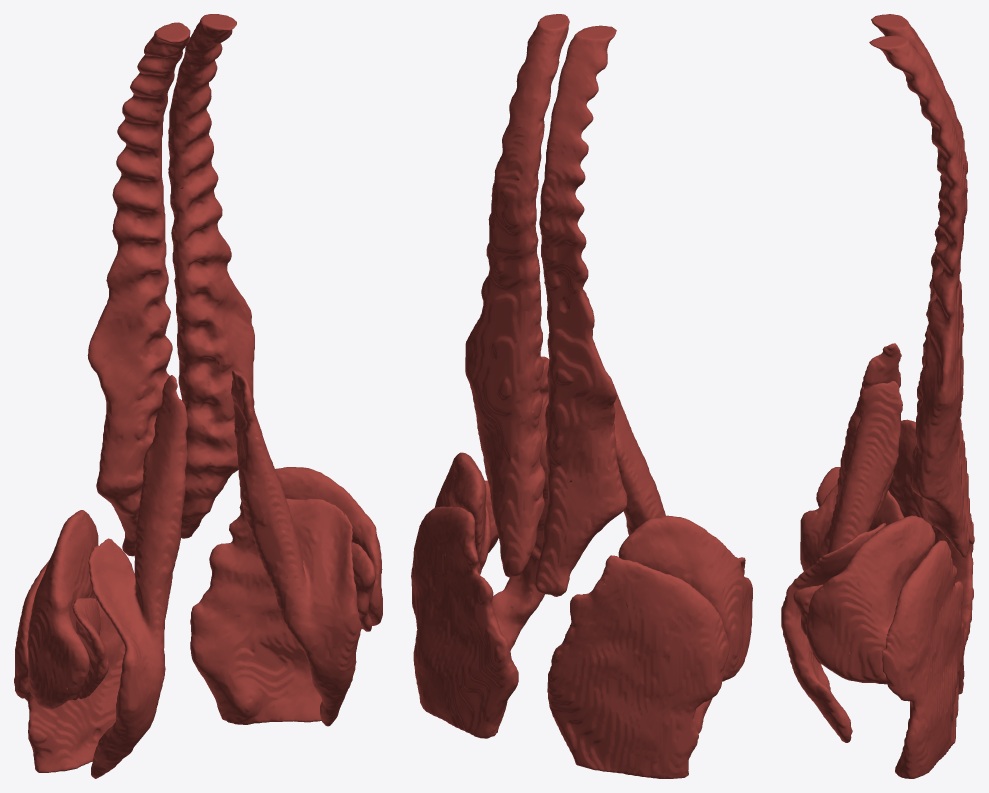
File: tsd_s0327_older_adult_male.muscular.LOD1.glb
The picture shows the model from 3 angles, left to right: view 1: azimuth 30°, elevation 25°; view 2: azimuth 150°, elevation 25°; view 3: azimuth 270°, elevation 25°; orthographic projection. The views are drawn at different scales.
Visible parts, largest first — view 1: TSD_S0327.OLDER_ADULT.MALE.MUSCULAR.ERECTOR_SPINAE_AUTOCHTHO (×2), TSD_S0327.OLDER_ADULT.MALE.MUSCULAR.ILIOPSOAS.L, TSD_S0327.OLDER_ADULT.MALE.MUSCULAR.ILIOPSOAS.R, TSD_S0327.OLDER_ADULT.MALE.MUSCULAR.GLUTEUS_MAXIMUS.L, TSD_S0327.OLDER_ADULT.MALE.MUSCULAR.GLUTEUS_MEDIUS.R, TSD_S0327.OLDER_ADULT.MALE.MUSCULAR.GLUTEUS_MAXIMUS.R, TSD_S0327.OLDER_ADULT.MALE.MUSCULAR.GLUTEUS_MEDIUS.L, TSD_S0327.OLDER_ADULT.MALE.MUSCULAR.GLUTEUS_MINIMUS.R, TSD_S0327.OLDER_ADULT.MALE.MUSCULAR.GLUTEUS_MINIMUS.L; view 2: TSD_S0327.OLDER_ADULT.MALE.MUSCULAR.ERECTOR_SPINAE_AUTOCHTHO (×2), TSD_S0327.OLDER_ADULT.MALE.MUSCULAR.GLUTEUS_MAXIMUS.R, TSD_S0327.OLDER_ADULT.MALE.MUSCULAR.GLUTEUS_MAXIMUS.L, TSD_S0327.OLDER_ADULT.MALE.MUSCULAR.GLUTEUS_MEDIUS.R, TSD_S0327.OLDER_ADULT.MALE.MUSCULAR.ILIOPSOAS.L, TSD_S0327.OLDER_ADULT.MALE.MUSCULAR.ILIOPSOAS.R, TSD_S0327.OLDER_ADULT.MALE.MUSCULAR.GLUTEUS_MEDIUS.L, TSD_S0327.OLDER_ADULT.MALE.MUSCULAR.GLUTEUS_MINIMUS.L; view 3: TSD_S0327.OLDER_ADULT.MALE.MUSCULAR.ERECTOR_SPINAE_AUTOCHTHO (×2), TSD_S0327.OLDER_ADULT.MALE.MUSCULAR.GLUTEUS_MAXIMUS.L, TSD_S0327.OLDER_ADULT.MALE.MUSCULAR.ILIOPSOAS.L, TSD_S0327.OLDER_ADULT.MALE.MUSCULAR.GLUTEUS_MEDIUS.L, TSD_S0327.OLDER_ADULT.MALE.MUSCULAR.ILIOPSOAS.R, TSD_S0327.OLDER_ADULT.MALE.MUSCULAR.GLUTEUS_MEDIUS.R, TSD_S0327.OLDER_ADULT.MALE.MUSCULAR.GLUTEUS_MAXIMUS.R, TSD_S0327.OLDER_ADULT.MALE.MUSCULAR.GLUTEUS_MINIMUS.R, TSD_S0327.OLDER_ADULT.MALE.MUSCULAR.GLUTEUS_MINIMUS.L.
Part boxes in pixels (bbox=[...]): TSD_S0327.OLDER_ADULT.MALE.MUSCULAR.ERECTOR_SPINAE_AUTOCHTHO (×2): bbox=[87, 14, 254, 556]; TSD_S0327.OLDER_ADULT.MALE.MUSCULAR.ILIOPSOAS.L: bbox=[231, 370, 361, 726]; TSD_S0327.OLDER_ADULT.MALE.MUSCULAR.ILIOPSOAS.R: bbox=[88, 375, 187, 778]; TSD_S0327.OLDER_ADULT.MALE.MUSCULAR.GLUTEUS_MAXIMUS.L: bbox=[190, 502, 322, 724]; TSD_S0327.OLDER_ADULT.MALE.MUSCULAR.GLUTEUS_MEDIUS.R: bbox=[27, 510, 98, 709]; TSD_S0327.OLDER_ADULT.MALE.MUSCULAR.GLUTEUS_MAXIMUS.R: bbox=[14, 560, 125, 772]; TSD_S0327.OLDER_ADULT.MALE.MUSCULAR.GLUTEUS_MEDIUS.L: bbox=[275, 467, 382, 625]; TSD_S0327.OLDER_ADULT.MALE.MUSCULAR.GLUTEUS_MINIMUS.R: bbox=[69, 597, 108, 700]; TSD_S0327.OLDER_ADULT.MALE.MUSCULAR.GLUTEUS_MINIMUS.L: bbox=[351, 542, 376, 631]; TSD_S0327.OLDER_ADULT.MALE.MUSCULAR.ERECTOR_SPINAE_AUTOCHTHO (×2): bbox=[465, 14, 627, 596]; TSD_S0327.OLDER_ADULT.MALE.MUSCULAR.GLUTEUS_MAXIMUS.R: bbox=[547, 555, 729, 778]; TSD_S0327.OLDER_ADULT.MALE.MUSCULAR.GLUTEUS_MAXIMUS.L: bbox=[411, 506, 518, 738]; TSD_S0327.OLDER_ADULT.MALE.MUSCULAR.GLUTEUS_MEDIUS.R: bbox=[618, 515, 752, 681]; TSD_S0327.OLDER_ADULT.MALE.MUSCULAR.ILIOPSOAS.L: bbox=[483, 356, 549, 650]; TSD_S0327.OLDER_ADULT.MALE.MUSCULAR.ILIOPSOAS.R: bbox=[609, 376, 712, 733]; TSD_S0327.OLDER_ADULT.MALE.MUSCULAR.GLUTEUS_MEDIUS.L: bbox=[435, 452, 486, 572]; TSD_S0327.OLDER_ADULT.MALE.MUSCULAR.GLUTEUS_MINIMUS.L: bbox=[479, 480, 498, 574]; TSD_S0327.OLDER_ADULT.MALE.MUSCULAR.ERECTOR_SPINAE_AUTOCHTHO (×2): bbox=[869, 14, 974, 557]; TSD_S0327.OLDER_ADULT.MALE.MUSCULAR.GLUTEUS_MAXIMUS.L: bbox=[882, 540, 966, 778]; TSD_S0327.OLDER_ADULT.MALE.MUSCULAR.ILIOPSOAS.L: bbox=[781, 381, 902, 742]; TSD_S0327.OLDER_ADULT.MALE.MUSCULAR.GLUTEUS_MEDIUS.L: bbox=[807, 515, 935, 684]; TSD_S0327.OLDER_ADULT.MALE.MUSCULAR.ILIOPSOAS.R: bbox=[800, 343, 901, 571]; TSD_S0327.OLDER_ADULT.MALE.MUSCULAR.GLUTEUS_MEDIUS.R: bbox=[888, 419, 932, 526]; TSD_S0327.OLDER_ADULT.MALE.MUSCULAR.GLUTEUS_MAXIMUS.R: bbox=[932, 520, 973, 694]; TSD_S0327.OLDER_ADULT.MALE.MUSCULAR.GLUTEUS_MINIMUS.R: bbox=[816, 467, 904, 531]; TSD_S0327.OLDER_ADULT.MALE.MUSCULAR.GLUTEUS_MINIMUS.L: bbox=[793, 584, 823, 663].
Bounding box in the file's own units: 0.3077 × 0.6439 × 0.1658.
